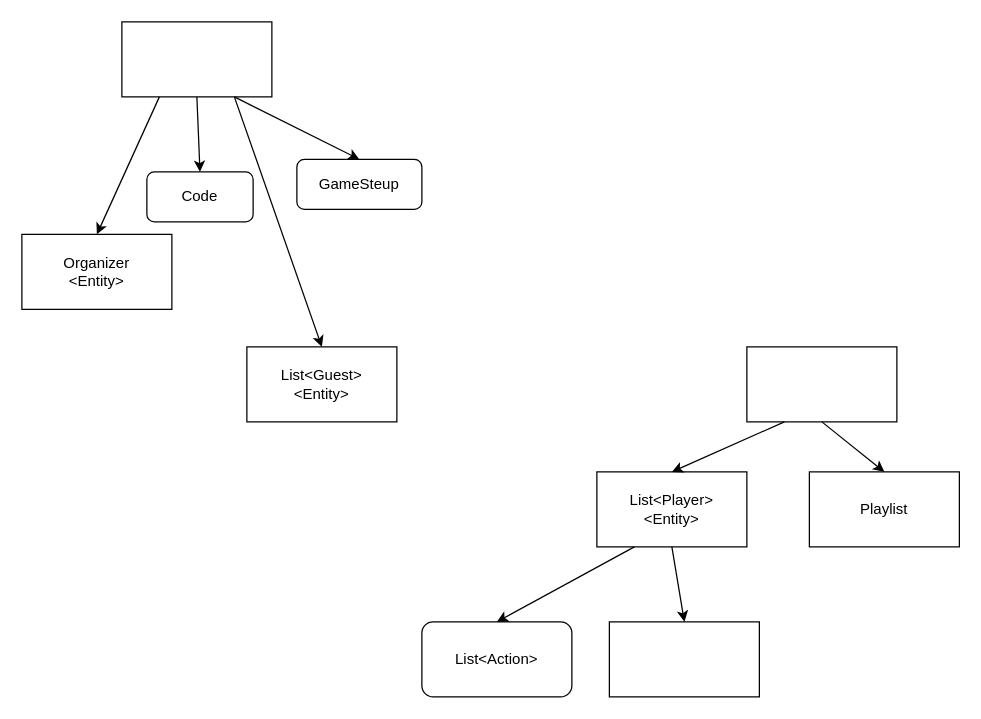
Image size: 981x719. Some labels were removed from this diagram. The shapes that lost their labels are listed below. From the top down, each one's box as (x1, y1, x2, y2) in pixels, then its label:
(121, 21, 272, 97): Room <<Aggregate Root>> <Entity>
(746, 346, 897, 422): Game <<Aggregate Root>> <Entity>
(608, 621, 759, 697): Guest
